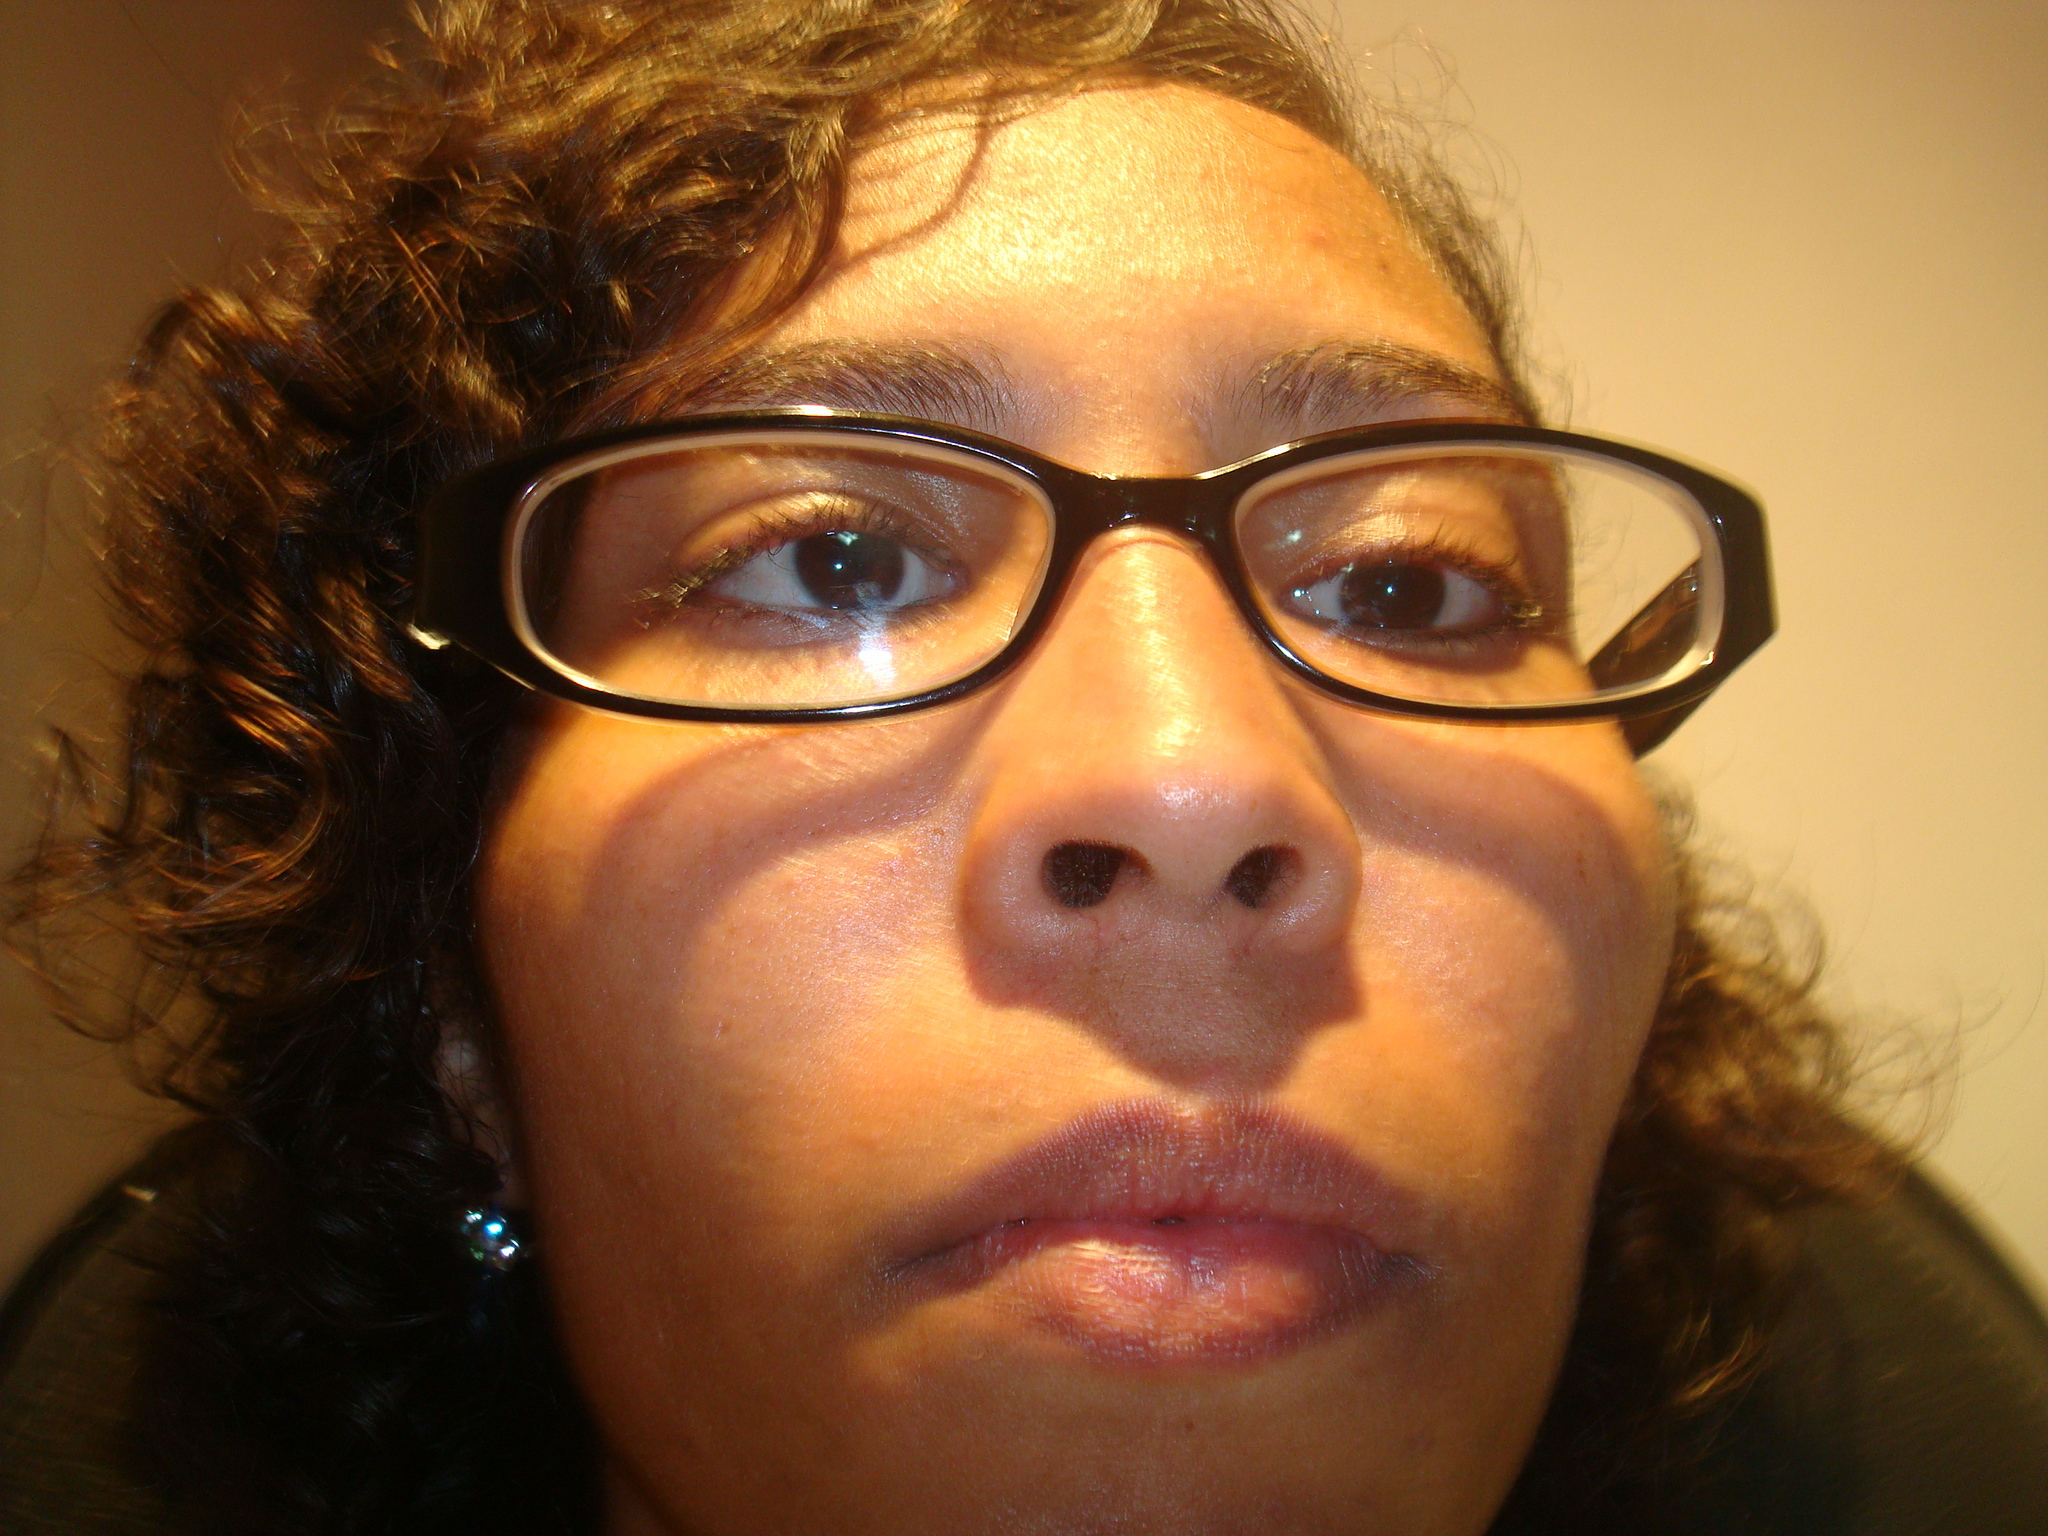flash: (1382, 581, 1397, 599), (830, 560, 847, 574)
limbo: (1335, 536, 1445, 649), (790, 505, 900, 613)
